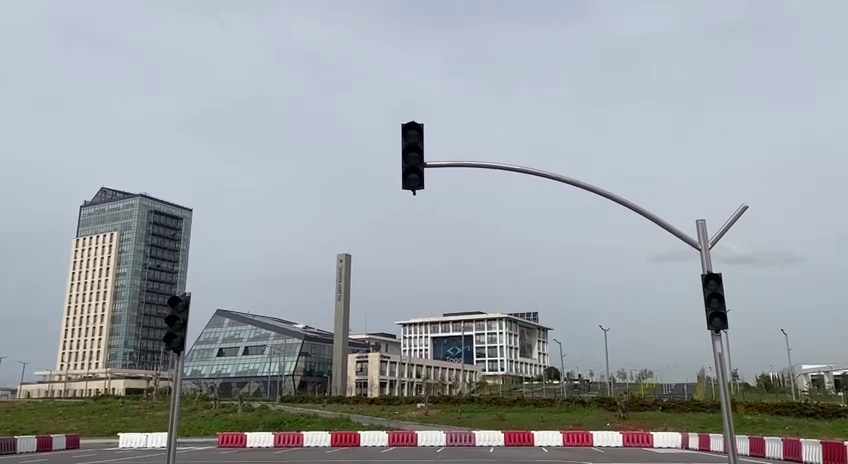trafficLight: (397, 116, 427, 198), (697, 267, 731, 336), (161, 289, 191, 359)
